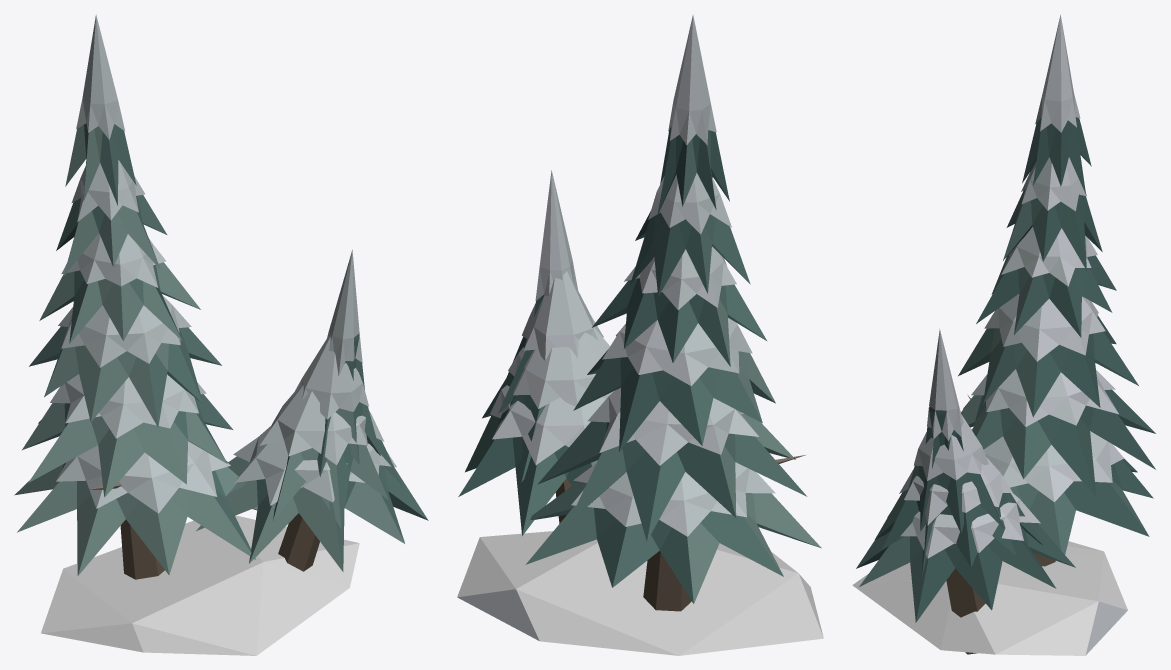
Rendered from tree_arctic_2.glb.
3 renders of one model, left to right at view 1: azimuth 30°, elevation 25°; view 2: azimuth 150°, elevation 25°; view 3: azimuth 270°, elevation 25°, orthographic. The views are drawn at different scales.
Visible parts, largest first — view 1: Body; view 2: Body; view 3: Body.
Boxes of the visible parts, x1,y1,x2,y2 form: Body: [14, 14, 428, 655]; Body: [457, 14, 823, 655]; Body: [852, 15, 1155, 655].
Bounding box in the file's own units: 4.12 × 6.83 × 3.31.
